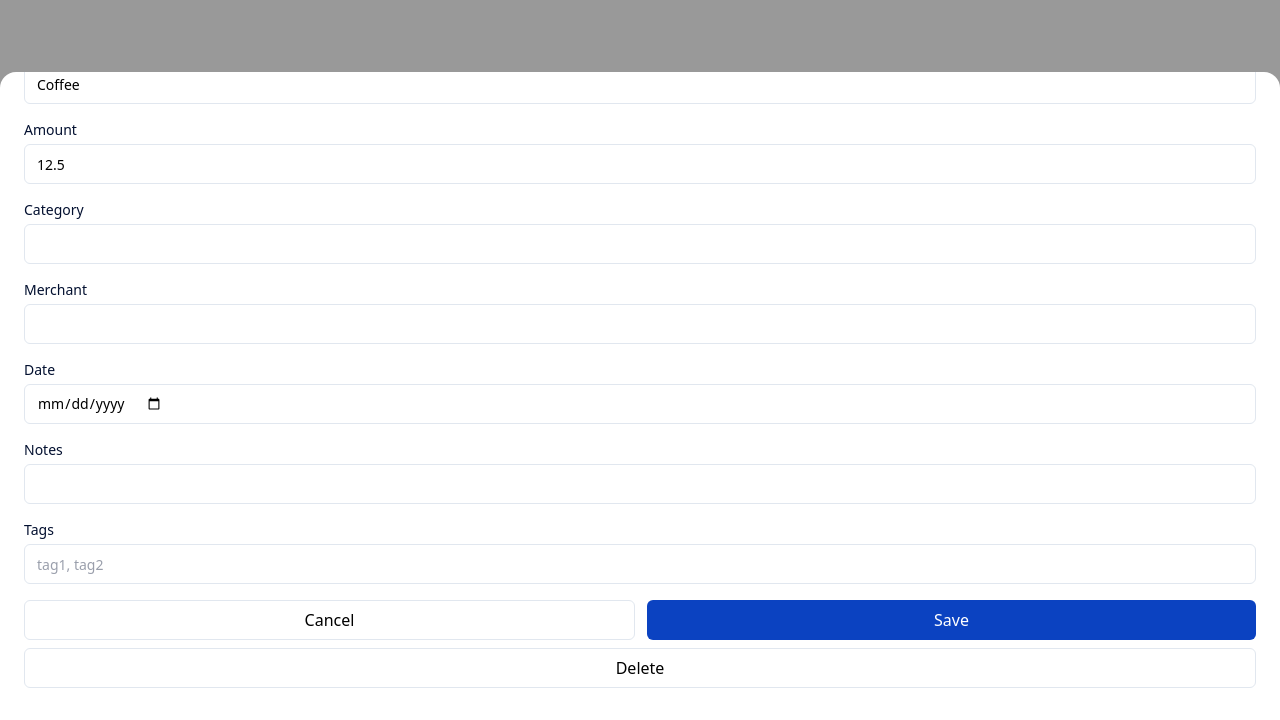
Test: EditEntryModal › delete error: shows error message and keeps modal open when delete throws (WR-03)
The width and height of the screenshot is (1280, 720).
(page scrolled)
Click the button "Delete". click: (640, 668)
box: [24, 648, 1256, 688]
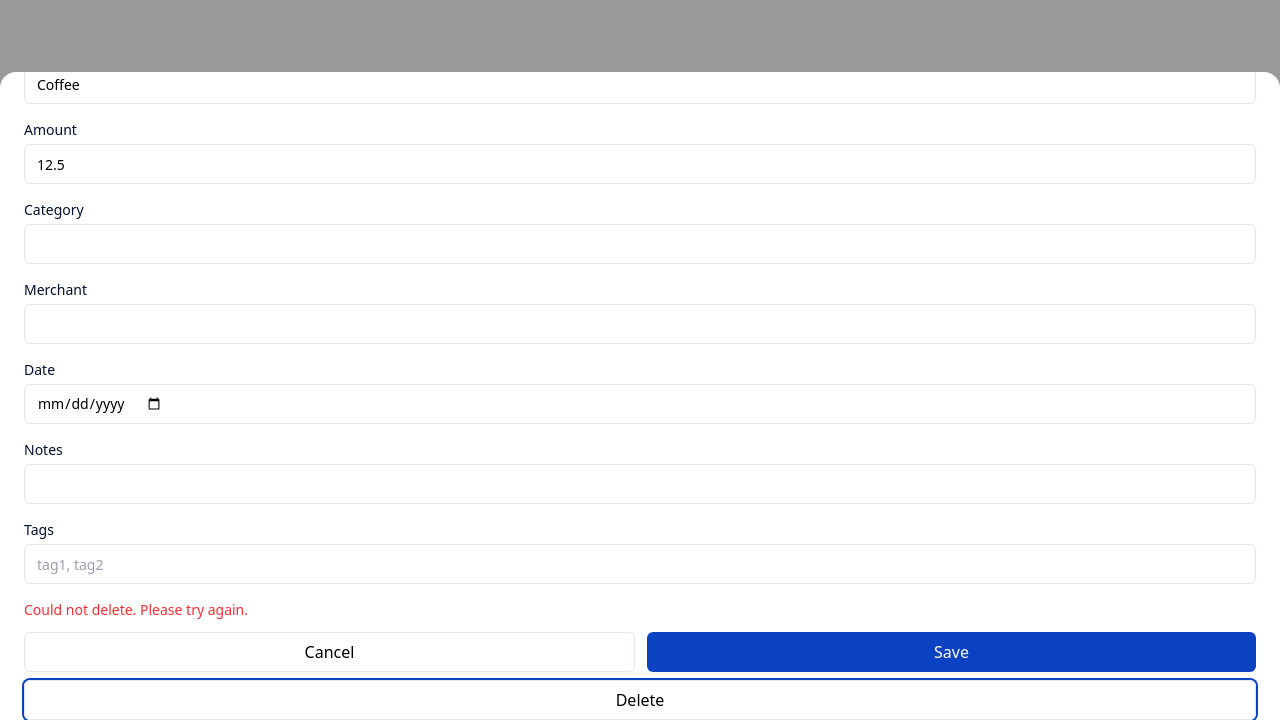
Now the message shows "Could not delete", box [24, 600, 248, 619]
